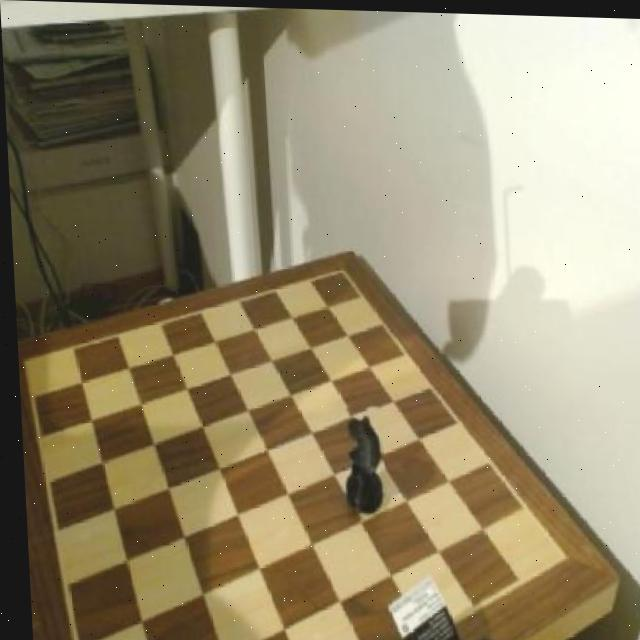black-king: (335, 404, 383, 519)
